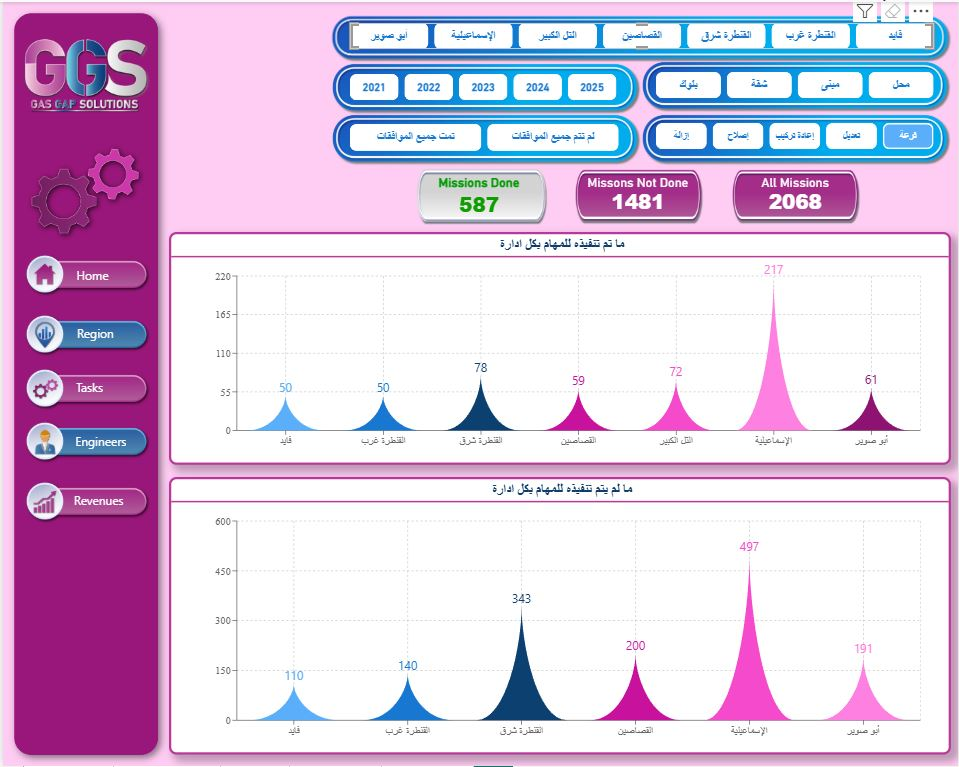

This screenshot's page, from the dashboard's own definition file:
{"tool":"powerbi","page":{"name":"Tasks","canvas":[1280,1024],"ordinal":2},"visuals":[{"type":"image","box":[538.5,215.4,205.7,88.6],"z":0},{"type":"image","box":[957.2,216.8,210,87],"z":1000},{"type":"image","box":[428.6,0,851.4,95.7],"z":2000},{"type":"image","box":[428.6,99.1,435.7,168.6],"z":3000},{"type":"image","box":[844.3,99.1,435.7,168.6],"z":4000},{"type":"image","box":[844.3,28.7,435.7,168.6],"z":5000},{"type":"image","box":[428.6,30.2,435.7,168.6],"z":6000},{"type":"advancedSlicerVisual","title":"المنطقة - الادارة","fields":{"Values":["Region1.Region_Name"]},"box":[465,28.3,783.3,35],"z":7000},{"type":"advancedSlicerVisual","title":"السنة","fields":{"Values":["Customers.Order_Date.Variation.Date Hierarchy.Year"]},"box":[465,96.2,361.2,35],"z":8000},{"type":"advancedSlicerVisual","title":"نوع المبني","fields":{"Values":["Building.Building_Type"]},"box":[875,93.8,373.8,35],"z":9000},{"type":"advancedSlicerVisual","title":"المهمة المطلوبة","fields":{"Values":["To_Do.To_Do"]},"box":[875,162.5,373.8,35],"z":10000},{"type":"advancedSlicerVisual","title":"نوع الموافقة","fields":{"Values":["Customers.Approve"]},"box":[465,163.8,361.2,36.2],"z":11000},{"type":"shape","box":[0,0,222.9,1024.3],"z":12000},{"type":"image","box":[15.7,35.7,190,125.7],"z":13000},{"type":"image","box":[15.7,308.4,192,112],"z":14000},{"type":"image","box":[15.7,396.4,192,96],"z":15000},{"type":"image","box":[15.7,468.4,192,96],"z":16000},{"type":"image","box":[15.7,540.4,192,96],"z":17000},{"type":"image","box":[15.7,612.4,192,112],"z":18000},{"type":"actionButton","box":[63.1,334.6,114.3,60],"z":19000},{"type":"actionButton","box":[60,420,127.1,48.6],"z":20000},{"type":"actionButton","box":[60,484.3,111.4,64.3],"z":21000},{"type":"actionButton","box":[58.6,555.7,144.3,64.3],"z":22000},{"type":"actionButton","box":[64.3,643.2,128,48],"z":23000},{"type":"image","box":[746.3,216.8,210,86.7],"z":24000},{"type":"card","title":"All Missions","fields":{"Values":["CountNonNull(Cost_Profit.Mission_Not_Done)"]},"box":[992.8,232.5,137.1,57.1],"z":25000},{"type":"card","title":"Missons Not Done","fields":{"Values":["Sum(Cost_Profit.Mission_Not_Done)"]},"box":[774.2,232.5,152.9,57.1],"z":26000},{"type":"card","title":"Missions Done","fields":{"Values":["Sum(Cost_Profit.Mission_Done)"]},"box":[572.8,232.5,131.4,64.3],"z":27000},{"type":"triangleBarChartD61DC3131B7C4F41853BA7BCC511BC96","title":"ما تم تنفيذه للمهام بكل ادارة","fields":{"category":["Region1.Region_Name"],"measure":["Sum(Cost_Profit.Mission_Done)"]},"box":[222.7,308,1048,312],"z":28000},{"type":"triangleBarChartD61DC3131B7C4F41853BA7BCC511BC96","title":"ما لم يتم تنفيذه للمهام بكل ادارة","fields":{"category":["Region1.Region_Name"],"measure":["Sum(Cost_Profit.Mission_Not_Done)"]},"box":[222.7,636,1048,372],"z":29000},{"type":"image","box":[15,160,191.7,188.3],"z":30000}]}

Visuals, with their boxes on the page's 1280x1024 design canvas (x1, y1, x2, y2). These are canvas units, not pixel positions in the 959x767 screenshot, which may show the page scaled, cropped or inside an application window:
image: x1=538 y1=215 x2=744 y2=304
image: x1=957 y1=217 x2=1167 y2=304
image: x1=429 y1=0 x2=1280 y2=96
image: x1=429 y1=99 x2=864 y2=268
image: x1=844 y1=99 x2=1280 y2=268
image: x1=844 y1=29 x2=1280 y2=197
image: x1=429 y1=30 x2=864 y2=199
"المنطقة - الادارة" advancedSlicerVisual: x1=465 y1=28 x2=1248 y2=63
"السنة" advancedSlicerVisual: x1=465 y1=96 x2=826 y2=131
"نوع المبني" advancedSlicerVisual: x1=875 y1=94 x2=1249 y2=129
"المهمة المطلوبة" advancedSlicerVisual: x1=875 y1=162 x2=1249 y2=198
"نوع الموافقة" advancedSlicerVisual: x1=465 y1=164 x2=826 y2=200
shape: x1=0 y1=0 x2=223 y2=1024
image: x1=16 y1=36 x2=206 y2=161
image: x1=16 y1=308 x2=208 y2=420
image: x1=16 y1=396 x2=208 y2=492
image: x1=16 y1=468 x2=208 y2=564
image: x1=16 y1=540 x2=208 y2=636
image: x1=16 y1=612 x2=208 y2=724
actionButton: x1=63 y1=335 x2=177 y2=395
actionButton: x1=60 y1=420 x2=187 y2=469
actionButton: x1=60 y1=484 x2=171 y2=549
actionButton: x1=59 y1=556 x2=203 y2=620
actionButton: x1=64 y1=643 x2=192 y2=691
image: x1=746 y1=217 x2=956 y2=304
"All Missions" card: x1=993 y1=232 x2=1130 y2=290
"Missons Not Done" card: x1=774 y1=232 x2=927 y2=290
"Missions Done" card: x1=573 y1=232 x2=704 y2=297
"ما تم تنفيذه للمهام بكل ادارة" triangleBarChartD61DC3131B7C4F41853BA7BCC511BC96: x1=223 y1=308 x2=1271 y2=620
"ما لم يتم تنفيذه للمهام بكل ادارة" triangleBarChartD61DC3131B7C4F41853BA7BCC511BC96: x1=223 y1=636 x2=1271 y2=1008
image: x1=15 y1=160 x2=207 y2=348
